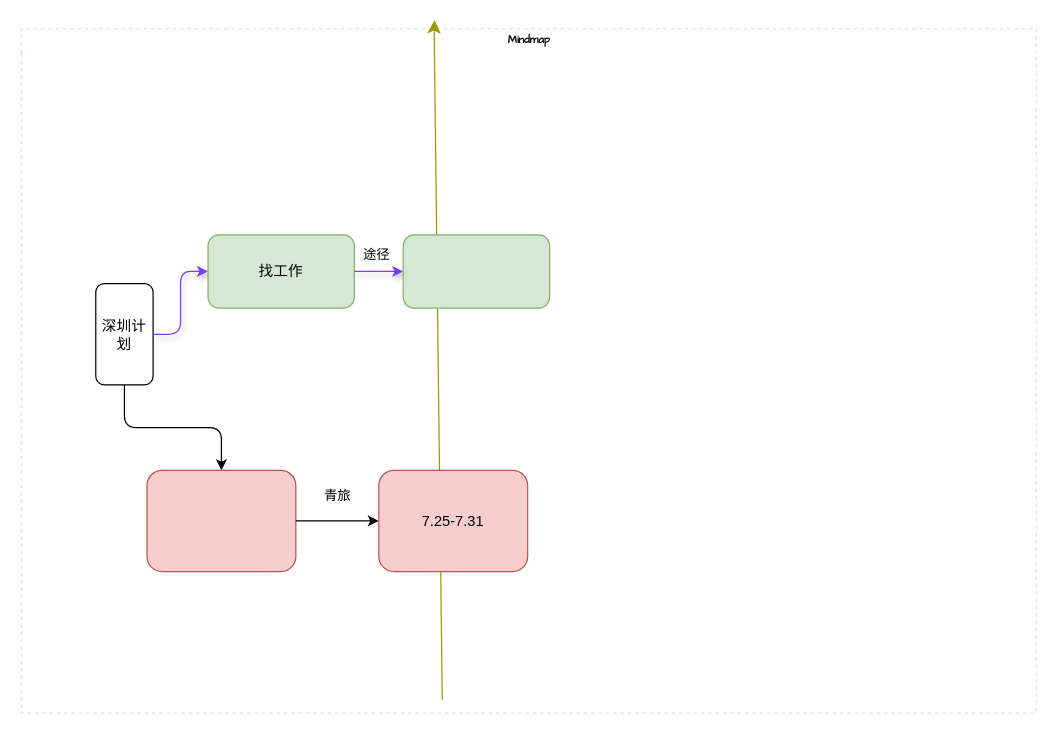
The diagram is 1058 pixels wide and 734 high, and some of its shapes have lost their labels. Each missing label, with the centre of its shape:
"BOSS" goes at pixel 476 271.
"租房" goes at pixel 221 520.
